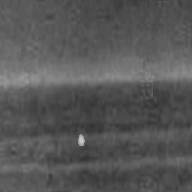Target: (77, 132, 86, 147)
